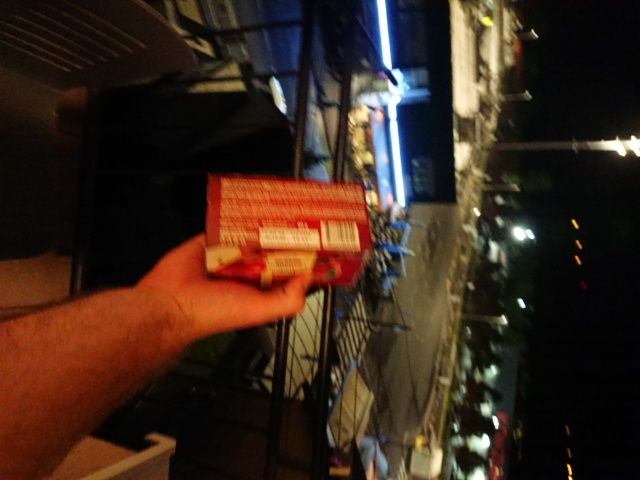Franck Apple Cinnamon Tea 60g: (199, 169, 378, 293)
